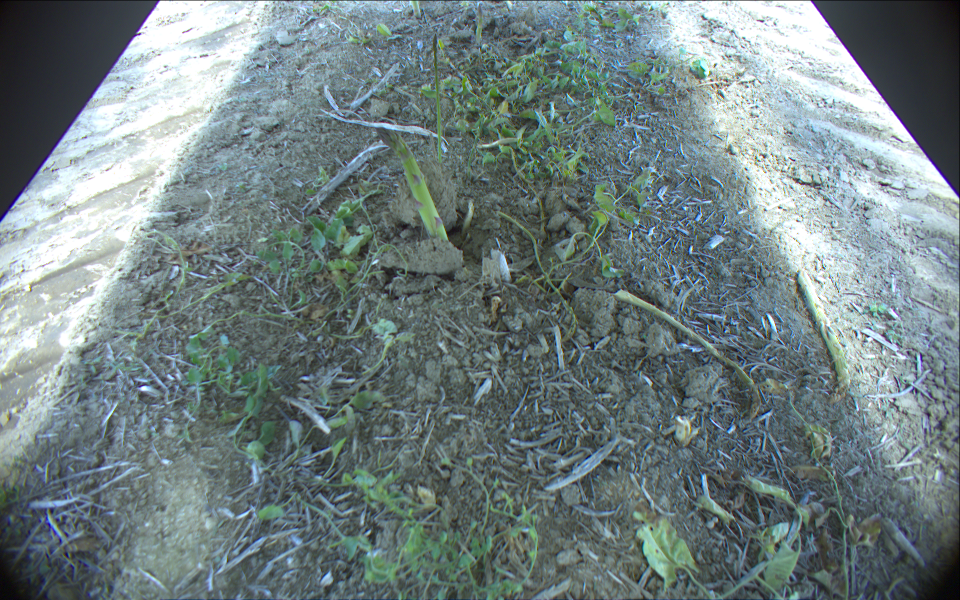aspa: (615, 289, 759, 417), (379, 126, 449, 243), (792, 265, 853, 399), (430, 35, 445, 161), (475, 1, 486, 38), (411, 1, 421, 17)
